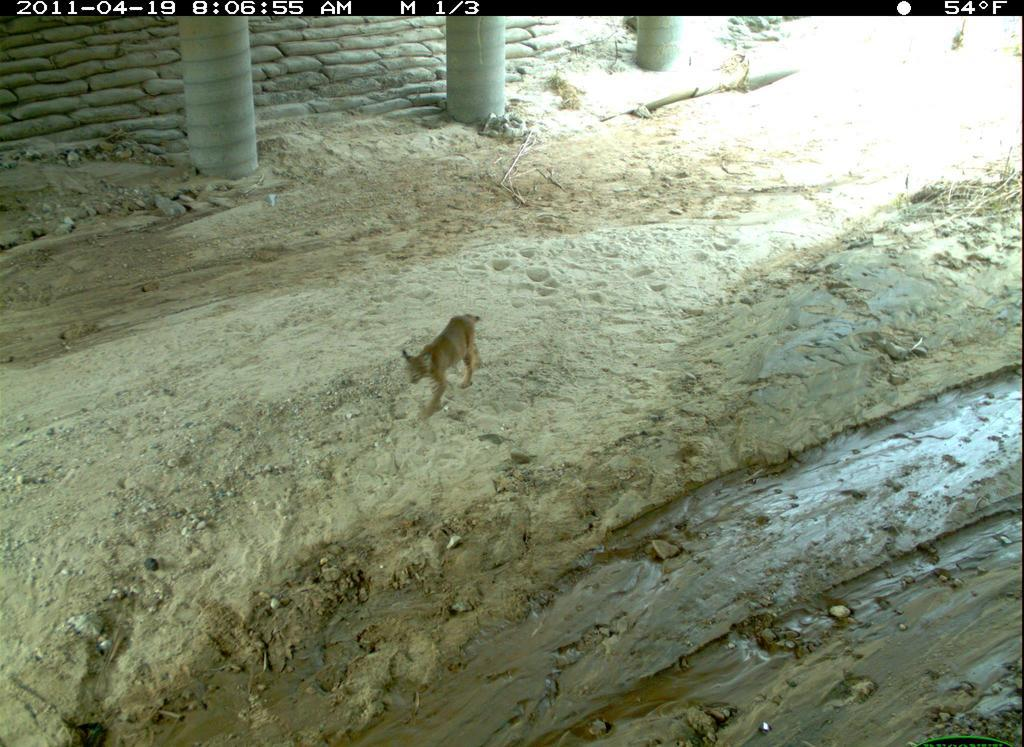bobcat: (392, 305, 505, 419)
